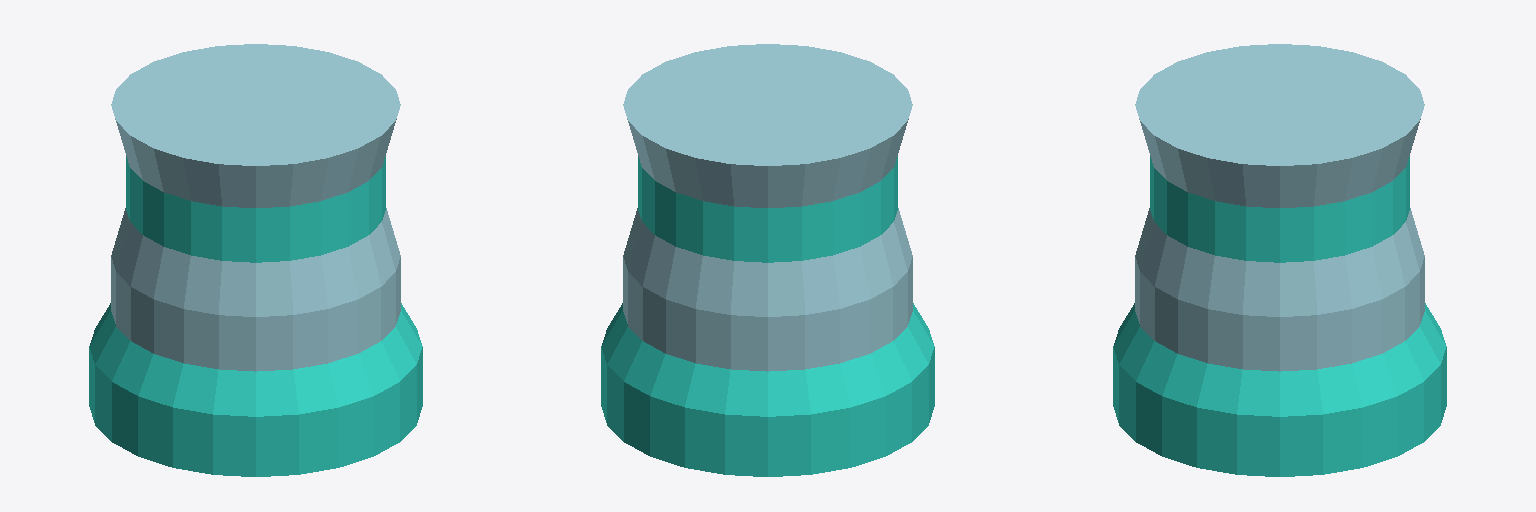
The model's file is Freeze.obj.
3 views of the same model, side by side, from view 1: azimuth 30°, elevation 25°; view 2: azimuth 150°, elevation 25°; view 3: azimuth 270°, elevation 25° (orthographic).
Parts seen in each view (by area): view 1: towerRound_middleA, Freeze; view 2: towerRound_middleA, Freeze; view 3: towerRound_middleA, Freeze.
Part boxes in pixels (x1,y1,x2,y2): towerRound_middleA: (111, 44, 400, 316); Freeze: (89, 257, 422, 476); towerRound_middleA: (623, 44, 912, 316); Freeze: (601, 257, 934, 476); towerRound_middleA: (1135, 44, 1424, 316); Freeze: (1113, 257, 1446, 476).
Bounding box in the file's own units: 1 × 1 × 1.